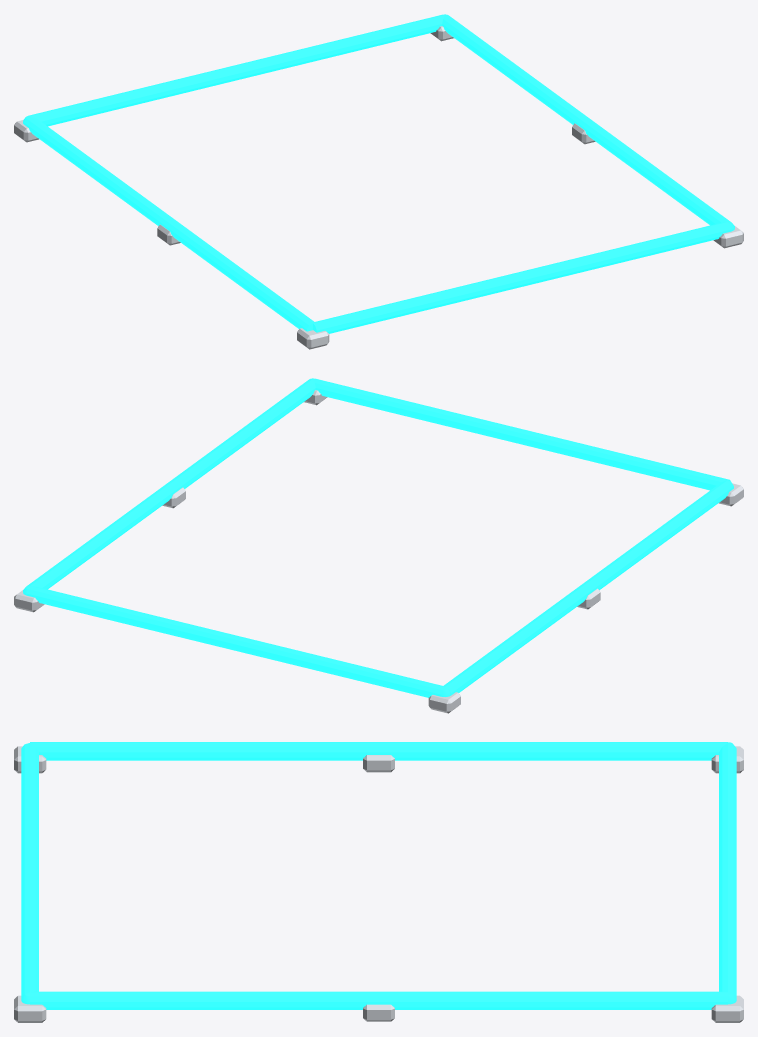
File: roof_light_frame_halo.glb
3 renders of one model, top to bottom at view 1: azimuth 30°, elevation 25°; view 2: azimuth 150°, elevation 25°; view 3: azimuth 270°, elevation 25°, orthographic. The views are drawn at different scales.
Parts seen in each view (by area): view 1: lamp_cyan, chrome; view 2: lamp_cyan, chrome; view 3: lamp_cyan, chrome.
Part boxes in pixels (<box>): lamp_cyan: <box>23,14,734,333</box>; chrome: <box>14,26,743,349</box>; lamp_cyan: <box>23,378,733,697</box>; chrome: <box>14,390,743,713</box>; lamp_cyan: <box>21,742,736,1009</box>; chrome: <box>14,746,743,1022</box>.
Size of the model in its own units: 2.32 by 0.105 by 2.72.
